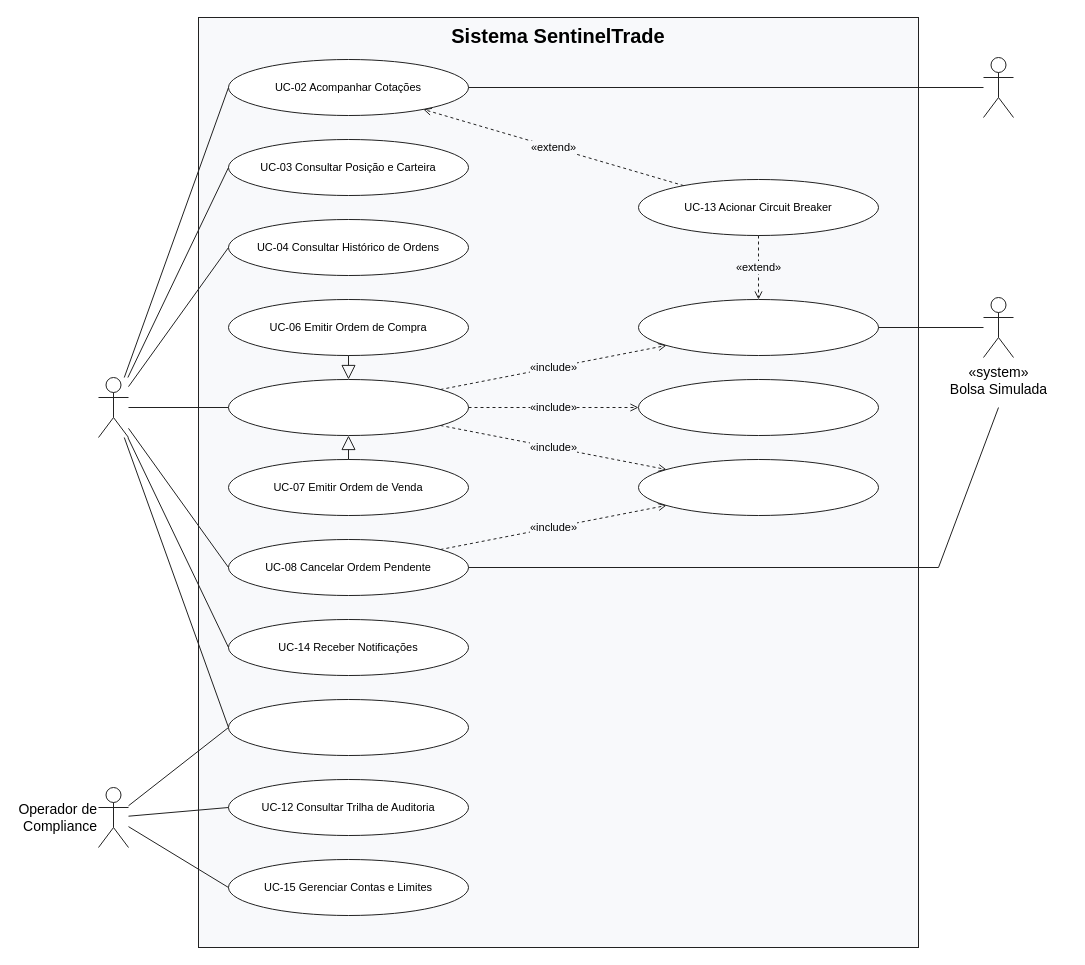
Image size: 1085x965. Some labels were removed from this diagram. Here are the shapes that lost their labels. From the top down, the centre of each, then its label:
point 998,87: «system» Provedor de Cotações
point 758,327: UC-10 Transmitir Ordem à Bolsa
point 113,407: Investidor
point 348,407: UC-05 Emitir Ordem
point 758,407: UC-09 Validar Risco Pré-Trade
point 758,487: UC-11 Registrar Trilha de Auditoria
point 348,727: UC-01 Autenticar com MFA
